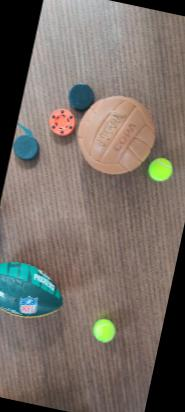Football size 5: (66, 83, 162, 185)
Rugby: (0, 253, 72, 326)
hockey puck: (63, 78, 97, 114), (9, 128, 42, 164), (43, 104, 76, 137)
tennis: (144, 152, 176, 185), (88, 314, 118, 344)
